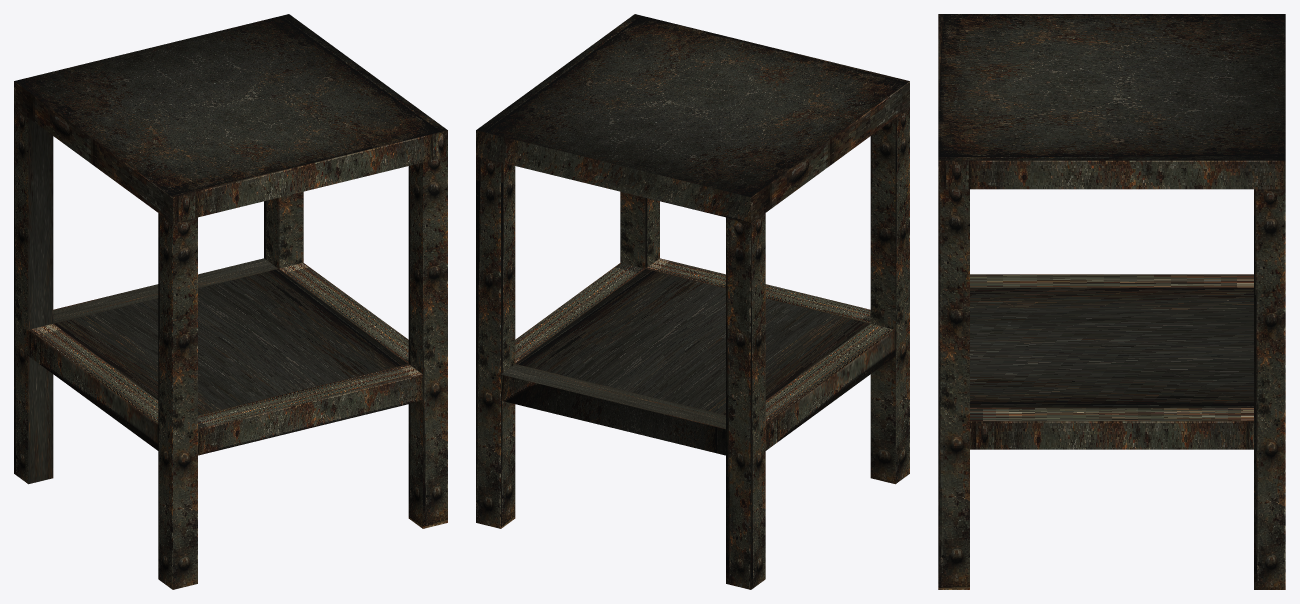
File: polka.glb
The picture shows the model from 3 angles, left to right: view 1: azimuth 30°, elevation 25°; view 2: azimuth 150°, elevation 25°; view 3: azimuth 270°, elevation 25°; orthographic projection. The views are drawn at different scales.
Parts seen in each view (by area): view 1: mesh (×10); view 2: mesh (×10); view 3: mesh (×6).
Part boxes in pixels (bbox=[...]): mesh (×10): bbox=[14, 14, 447, 589]; mesh (×10): bbox=[476, 14, 909, 589]; mesh (×6): bbox=[938, 14, 1285, 589].
Bounding box in the file's own units: 0.6875 × 0.9375 × 0.6875.
Materials: 3 (1 with a texture image).
